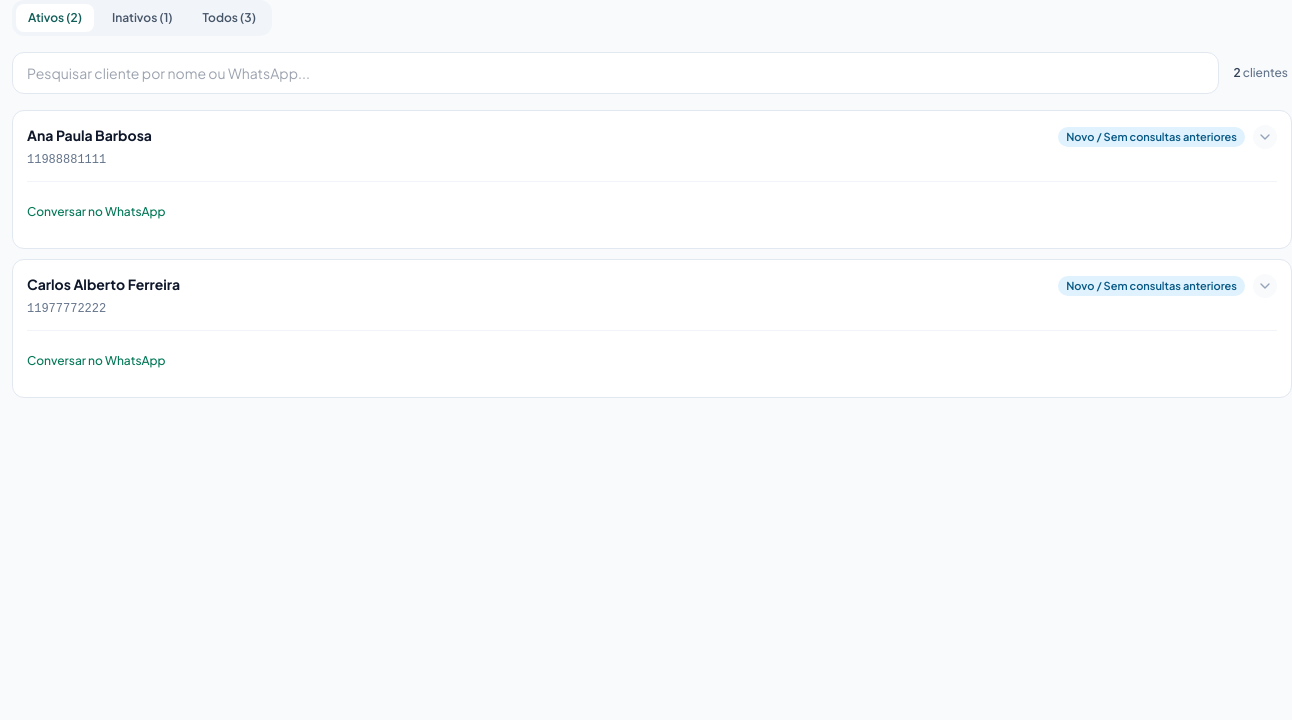
Feature: filtro-reativacao-clientes — UI PatientList e PatientCard › AC-246: Filtro de status na tela de clientes com contadores e busca contextual @spec:AC-246
Expected: the button with test id "filter-patient-active" reads "Ativos (2)", 16,4 -> 94,32
Expected: the button with test id "filter-patient-all" reads "Todos (3)", 191,4 -> 268,32
Alterna para 'Inativos'
Click the button with test id "filter-patient-inactive": (142, 18) 100,4 -> 184,32
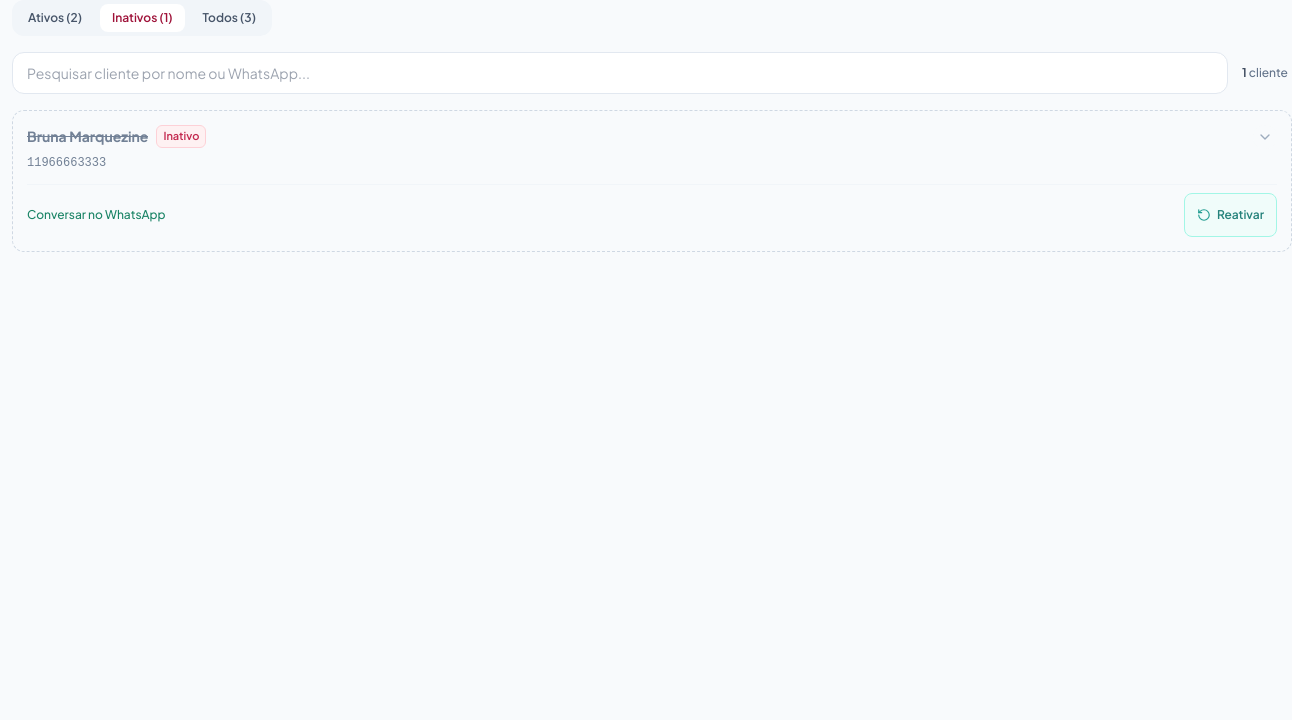
Result: the element with test id "patient-card-patient-act-1" is gone
Result: the element with test id "patient-card-patient-act-2" is gone
Result: the element with test id "patient-card-patient-inact-1" is shown at 12,110 -> 1291,252
Click the button with test id "filter-patient-all": (229, 18) 191,4 -> 268,32
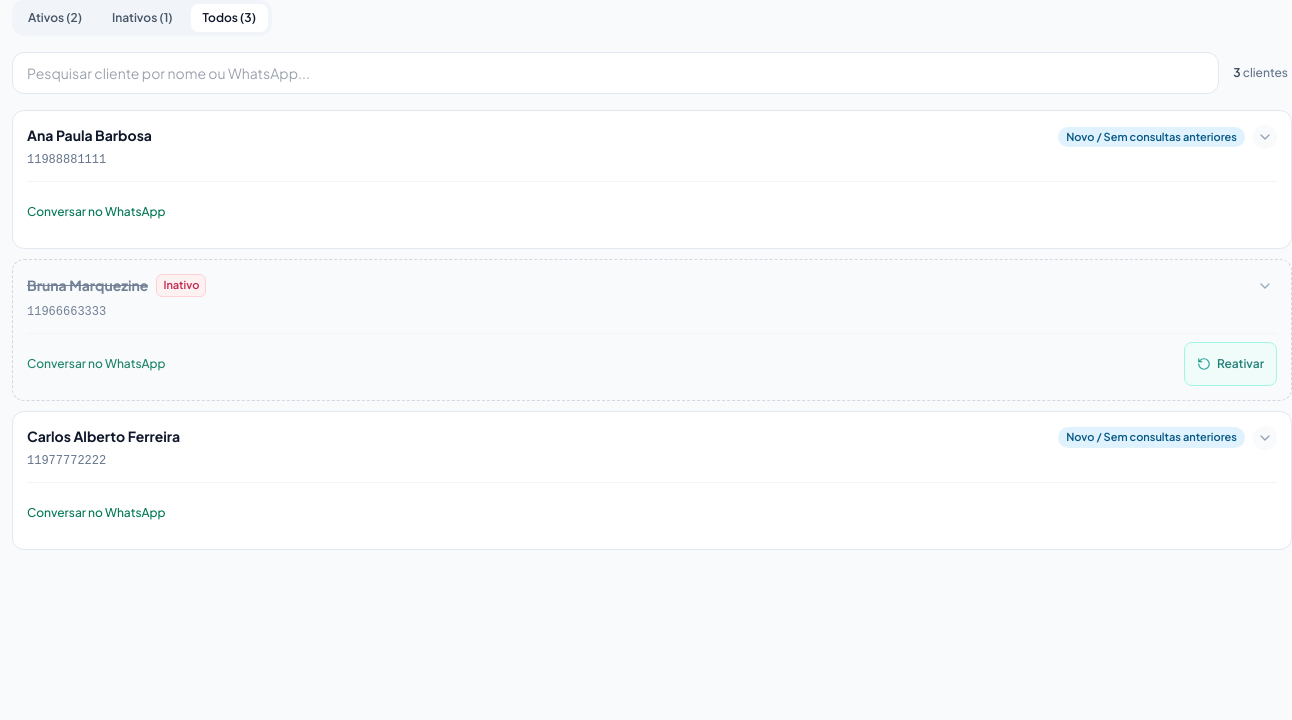
Result: the element with test id "patient-card-patient-inact-1" is shown at 12,259 -> 1291,400
Result: the element with test id "patient-card-patient-act-1" is shown at 12,110 -> 1291,249
Result: the element with test id "patient-card-patient-act-2" is shown at 12,410 -> 1291,550
Busca contextual com termo textual
In the field with test id "input-search-patients": (616, 73) 12,52 -> 1219,94, type "Carlos"
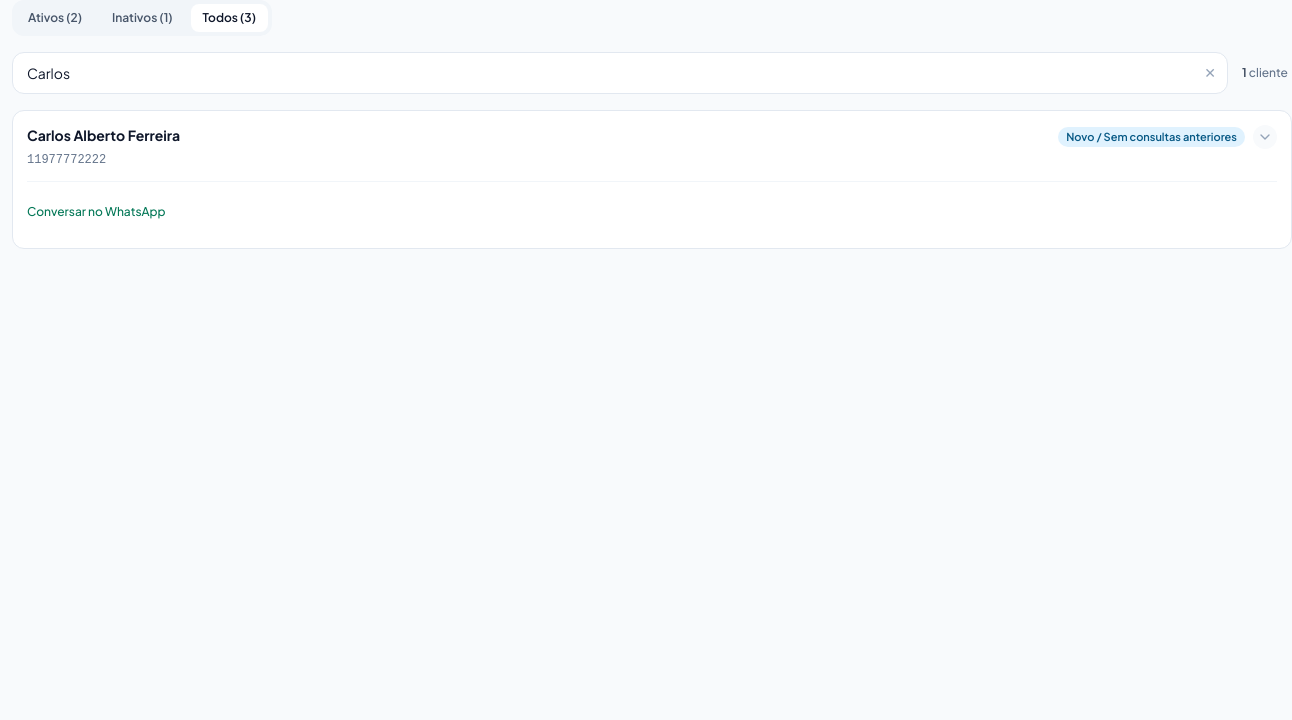
Result: the element with test id "patient-card-patient-act-2" is shown at 12,110 -> 1291,249
Result: the element with test id "patient-card-patient-act-1" is gone
Result: the element with test id "patient-card-patient-inact-1" is gone
